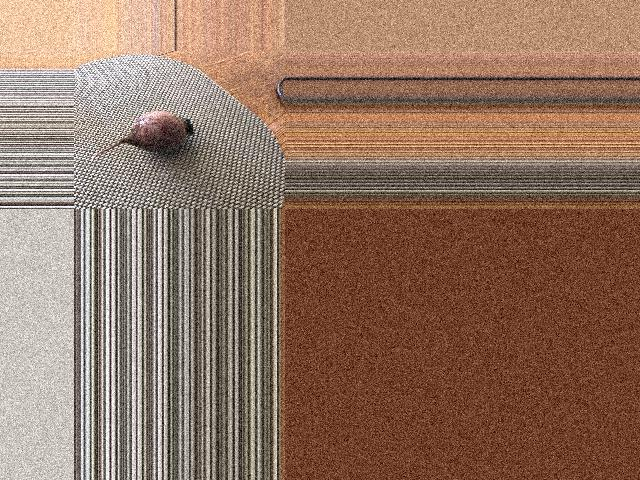beet: (91, 111, 194, 162)
